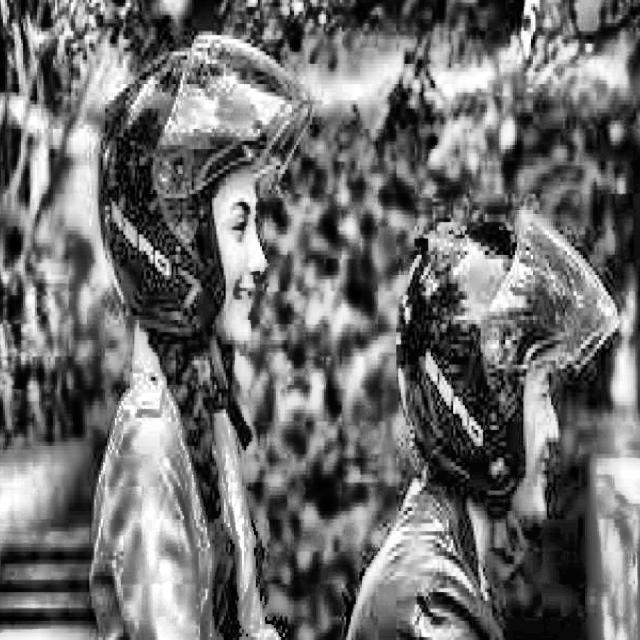Helmet: (388, 210, 623, 514), (96, 33, 309, 360)
